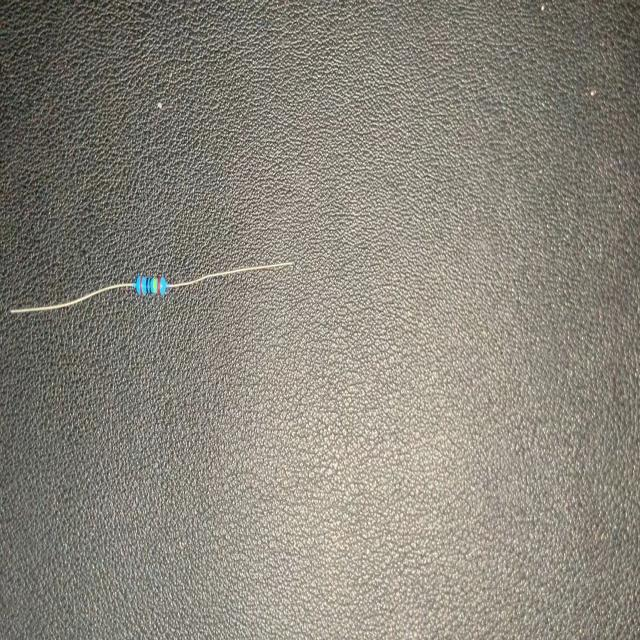resistor: (7, 255, 299, 322)
